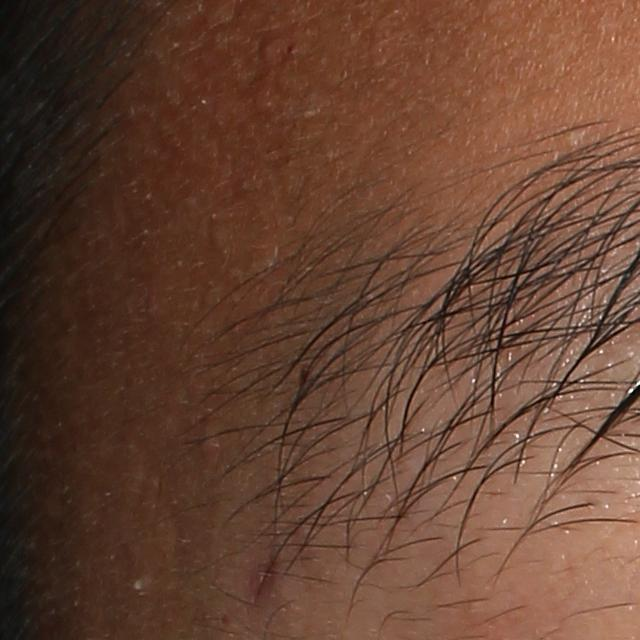comedo: (128, 566, 145, 599)
